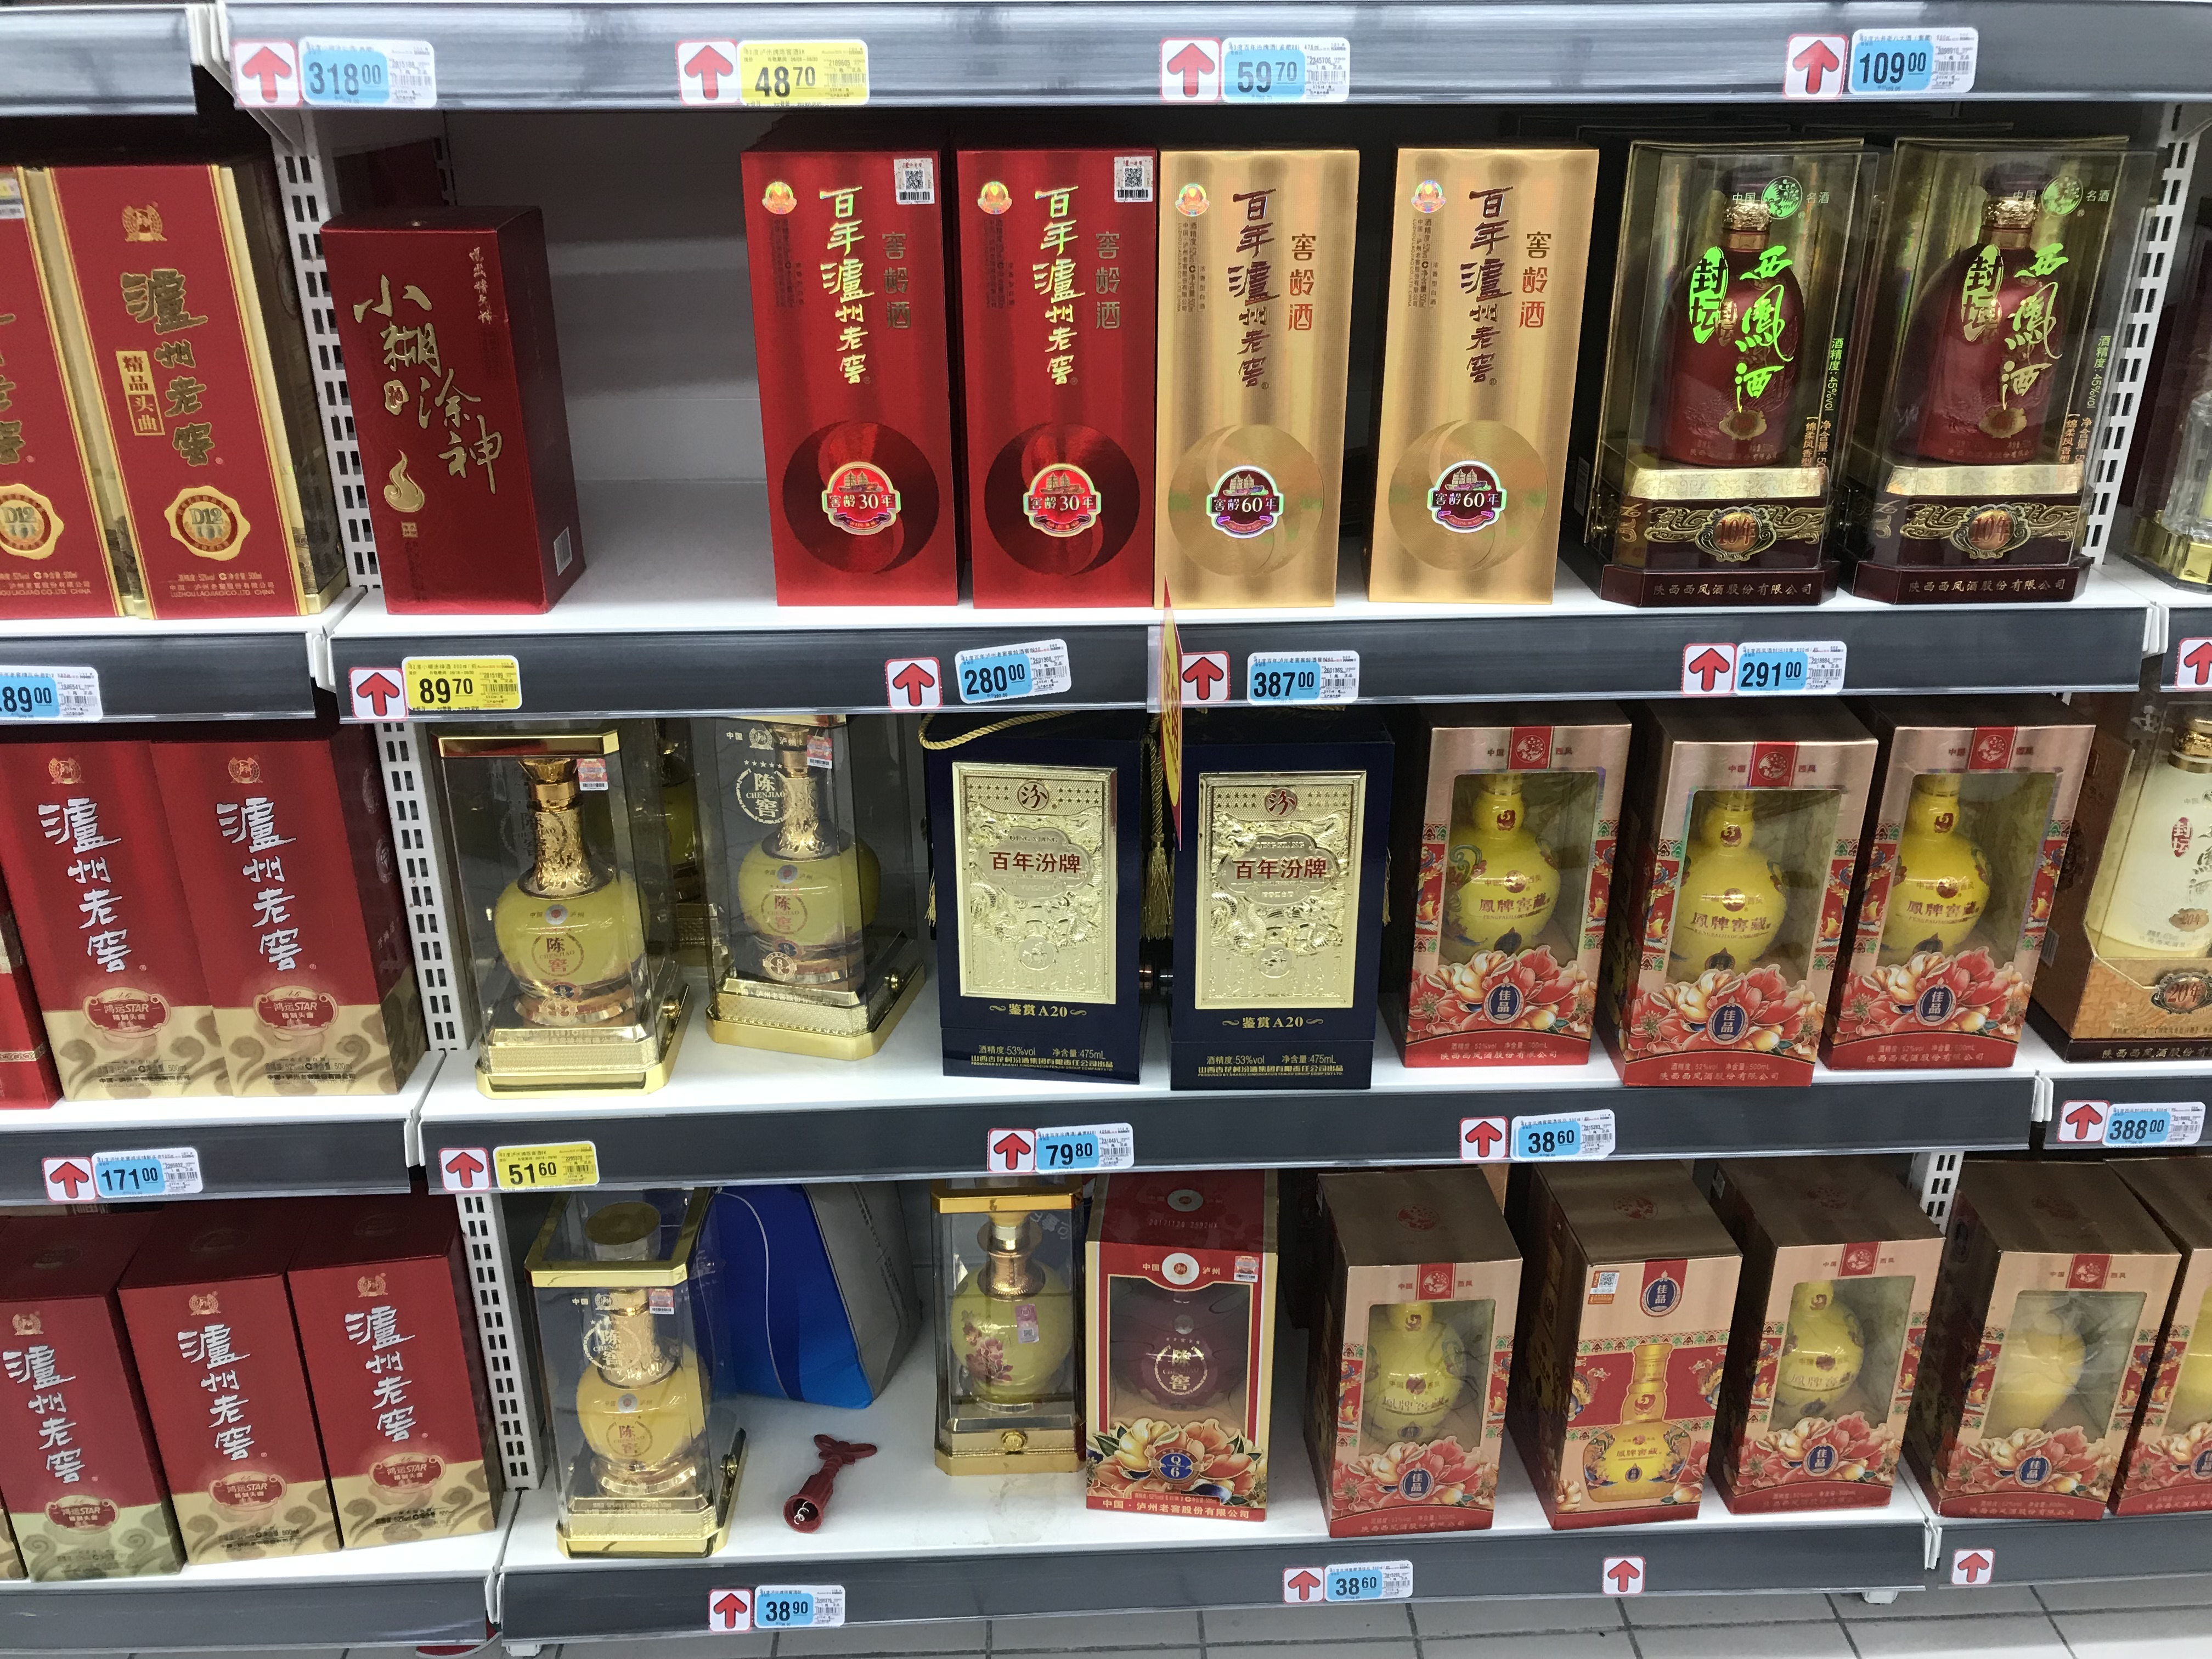box: (1583, 139, 1867, 606), (1855, 139, 2139, 605), (300, 204, 583, 620), (44, 148, 265, 634), (160, 704, 427, 1100), (1372, 145, 1597, 613), (946, 139, 1169, 612), (738, 132, 961, 603), (1888, 1169, 2186, 1516), (1148, 143, 1346, 634), (2, 735, 233, 1141), (1622, 721, 1874, 1091), (1836, 706, 2088, 1073), (521, 1182, 747, 1565), (115, 1239, 348, 1607), (918, 723, 1144, 1084), (1399, 713, 1630, 1065), (683, 718, 918, 1065), (1301, 1164, 1519, 1534), (287, 1232, 500, 1581), (1522, 1195, 1742, 1528), (1723, 1176, 1942, 1509), (1174, 749, 1381, 1091), (2, 1251, 188, 1584), (0, 153, 131, 626), (1096, 1187, 1277, 1518), (2067, 699, 2210, 1058), (495, 742, 643, 1086), (920, 1175, 1089, 1474), (2123, 1164, 2212, 1539)
